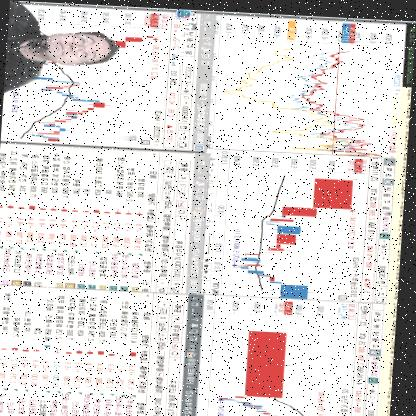streamer: (1, 0, 123, 99)
